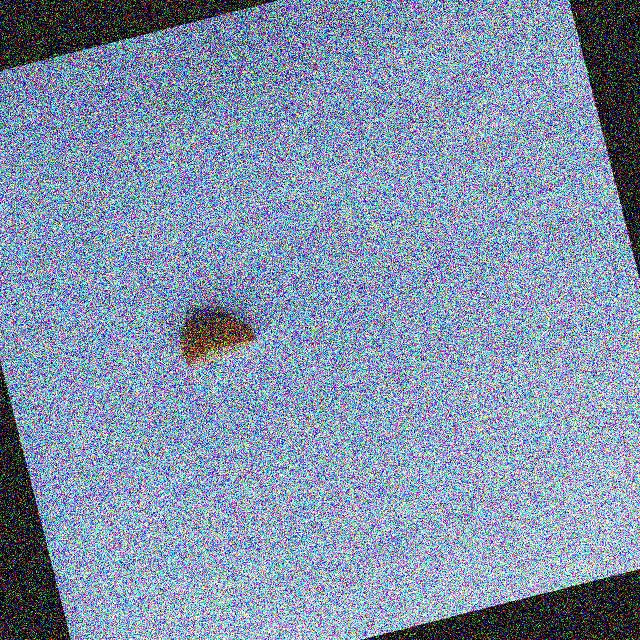grade4: (166, 294, 270, 376)
